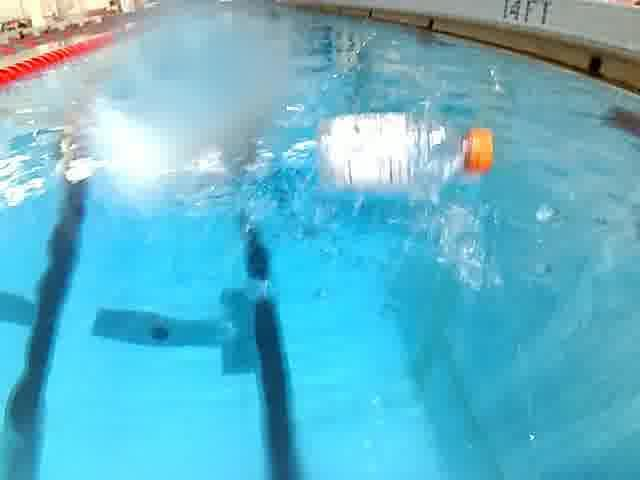Bottle: (310, 104, 502, 192)
